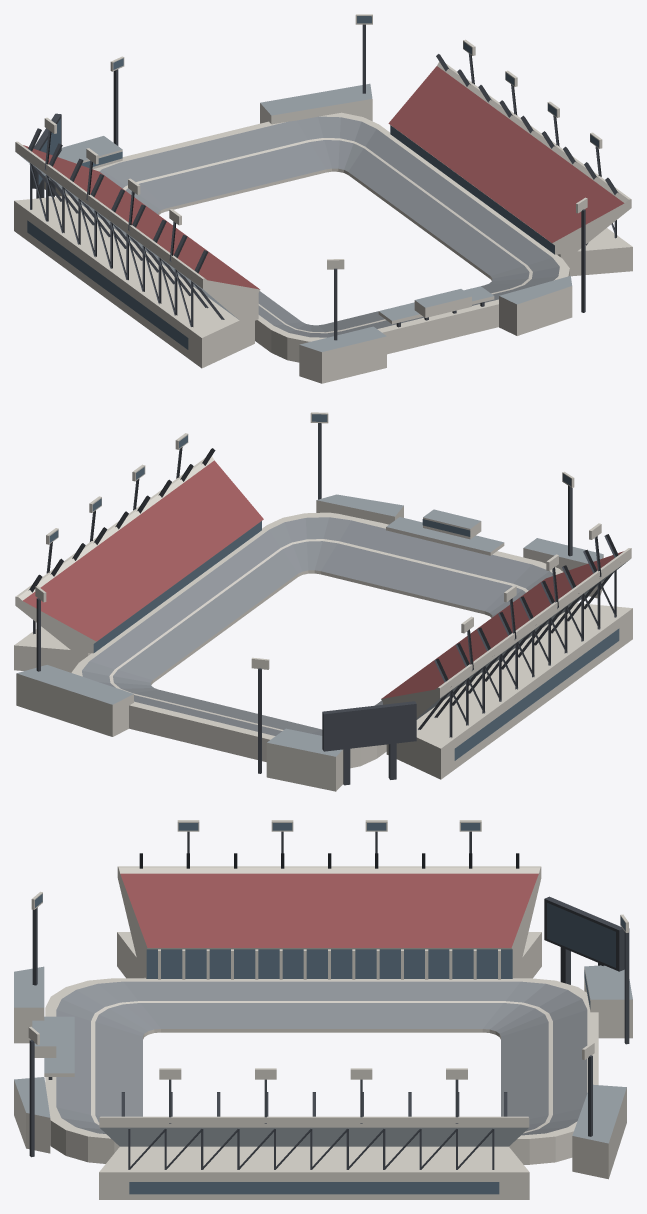
File: sd-snapdragon-stadium.glb
3 views of the same model, one above another, from view 1: azimuth 30°, elevation 25°; view 2: azimuth 150°, elevation 25°; view 3: azimuth 270°, elevation 25° (orthographic). The views are drawn at different scales.
Parts seen in each view (by area): view 1: Snapdragon Stadium; view 2: Snapdragon Stadium; view 3: Snapdragon Stadium.
Boxes of the visible parts, box(x1,y1,x2,y2) form: Snapdragon Stadium: box(14, 14, 632, 383); Snapdragon Stadium: box(14, 412, 632, 791); Snapdragon Stadium: box(14, 820, 632, 1199).
Size of the model in its own units: 182 by 54 by 204.
